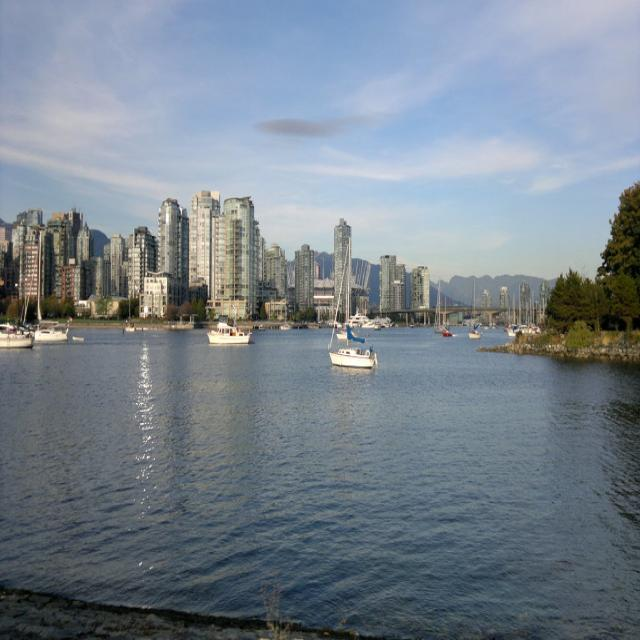Boat: (327, 241, 381, 370), (0, 235, 45, 337), (345, 260, 395, 324), (504, 278, 547, 338), (336, 266, 363, 341), (207, 319, 251, 344), (466, 280, 482, 341), (0, 328, 34, 351), (433, 276, 446, 336), (34, 324, 70, 344), (441, 303, 457, 338), (280, 298, 294, 331), (126, 324, 137, 334)
